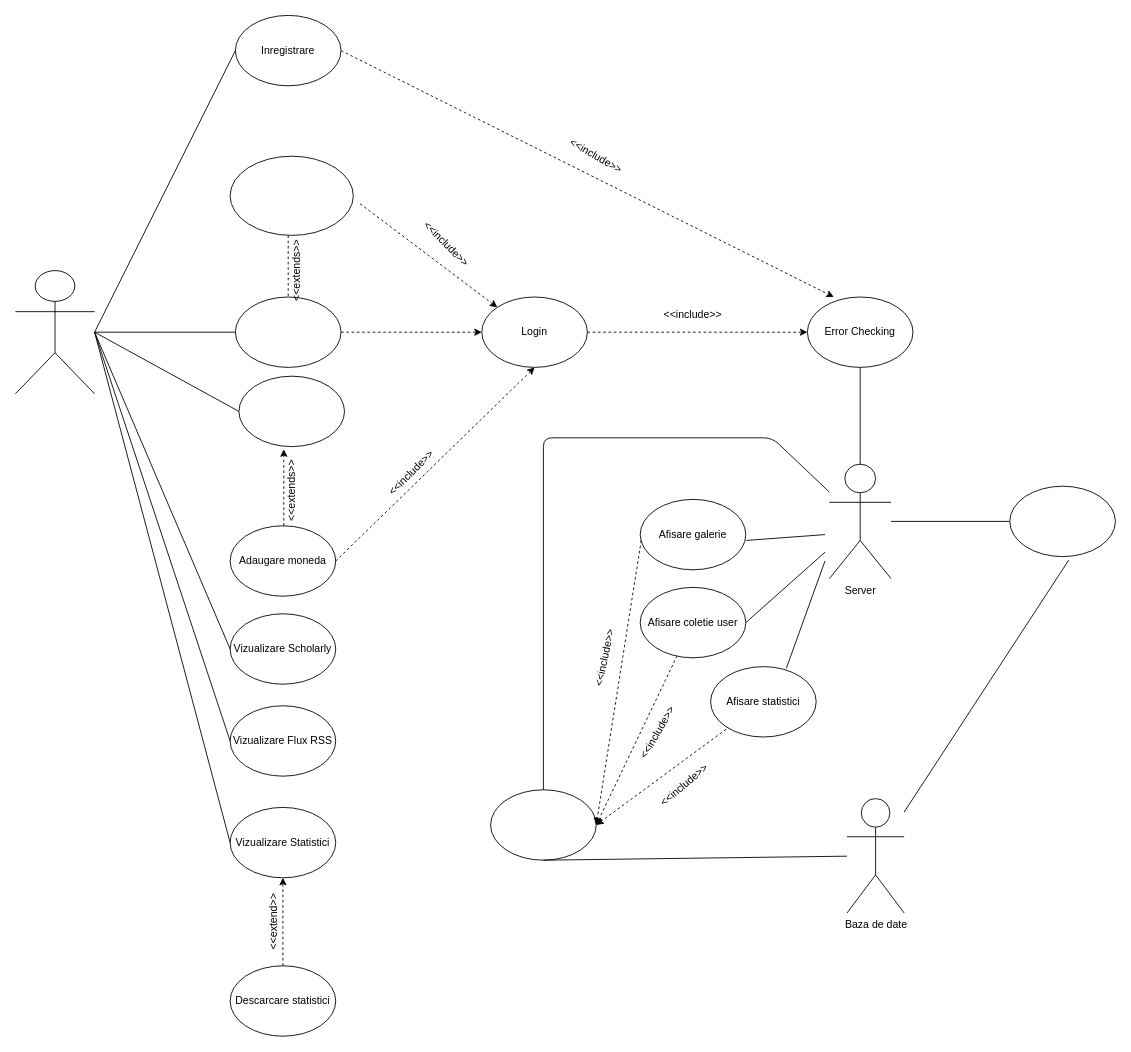
The diagram is 1131 pixels wide and 1052 high, and some of its shapes have lost their labels. Each missing label, with the box of its shape:
Elimare moneda din colectie: (229, 155, 353, 235)
Export date: (1009, 485, 1115, 557)
Import date: (490, 789, 596, 860)
Utilizator: (15, 270, 95, 394)
Vizualizare colectie: (235, 296, 341, 367)
Vizualizare galerie: (238, 375, 345, 447)
